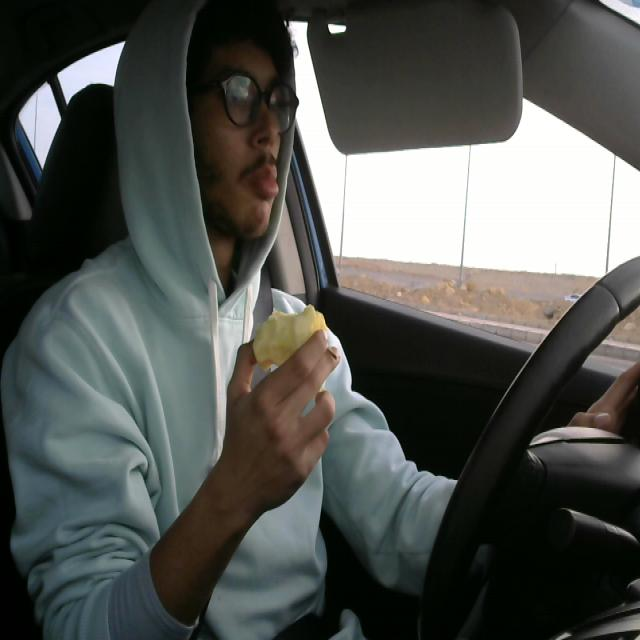eating: (247, 295, 334, 369)
